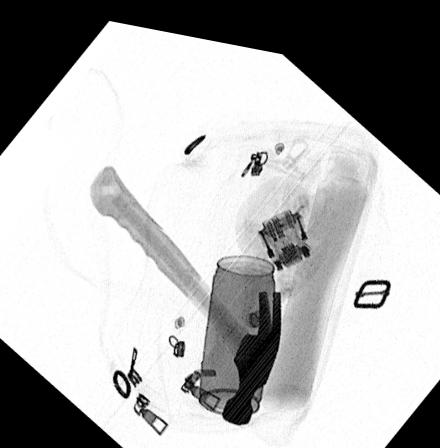Hammer: (88, 161, 282, 415)
